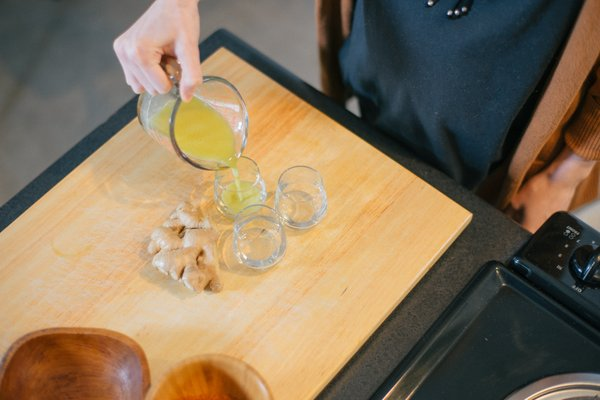sushi: (136, 73, 249, 170)
